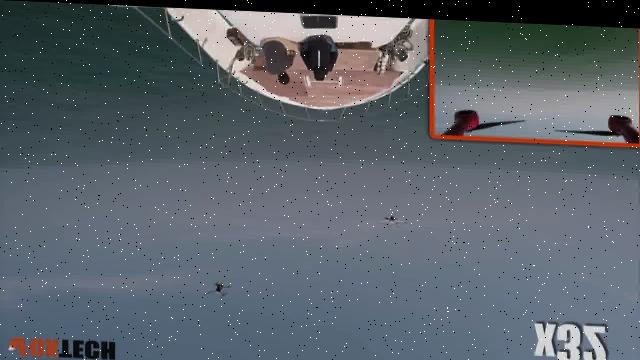drone: (205, 271, 237, 303), (378, 205, 410, 228)
